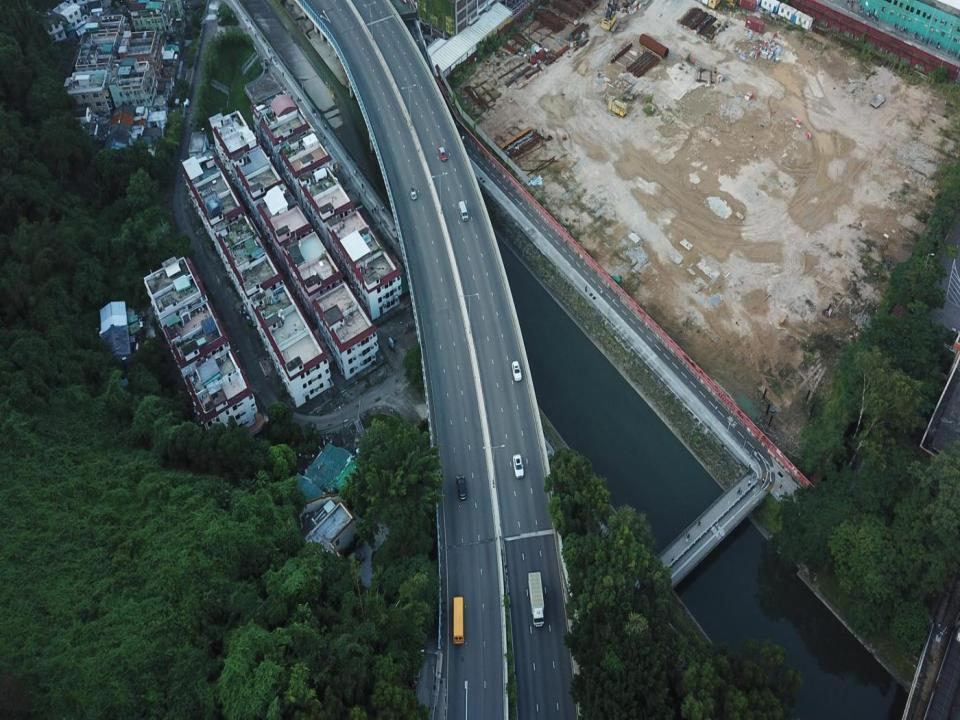car: (512, 453, 525, 479), (456, 474, 467, 502), (512, 361, 522, 381), (438, 145, 448, 161), (408, 187, 418, 201)
truck: (527, 571, 546, 628), (452, 596, 464, 645)
van: (458, 201, 468, 220)
